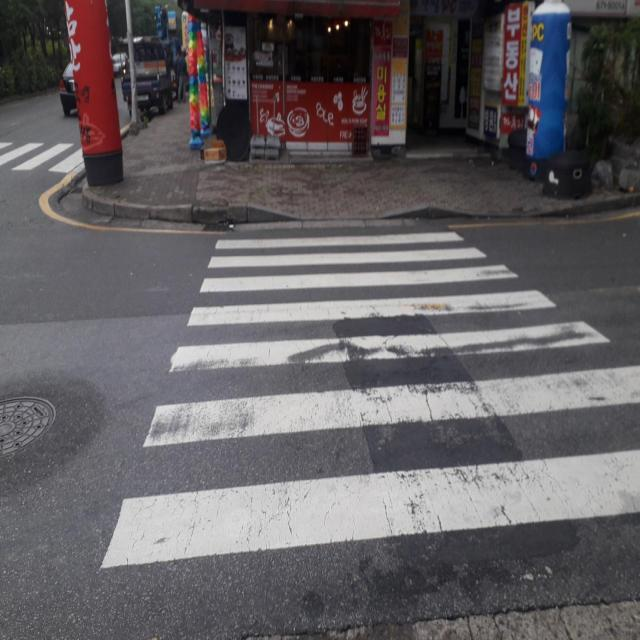횡단보도: (95, 227, 640, 577), (0, 138, 90, 174)
